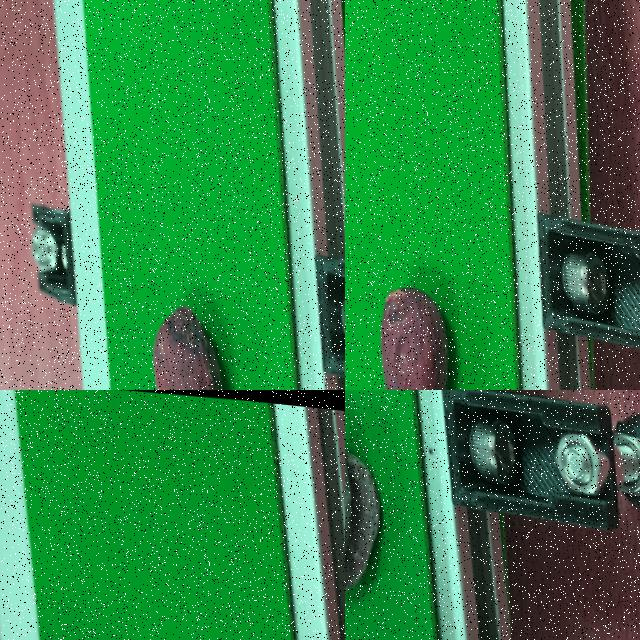Agglomerated_cocoabeans: (345, 390, 408, 639)
Fine_cocoabeans: (345, 162, 508, 389), (102, 236, 261, 389)
